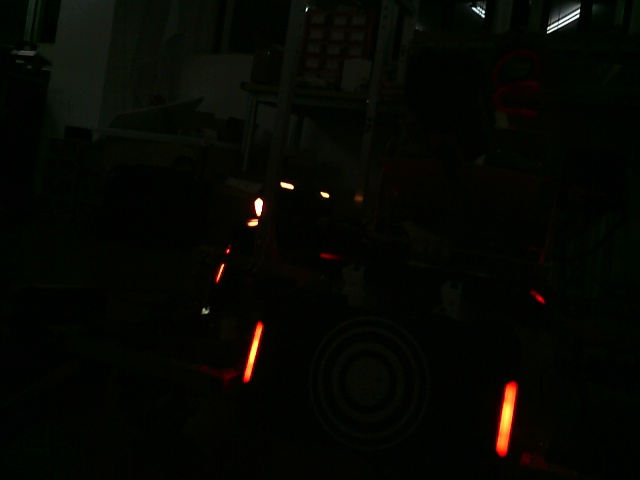lamp: (494, 381, 519, 457), (243, 320, 265, 385)
